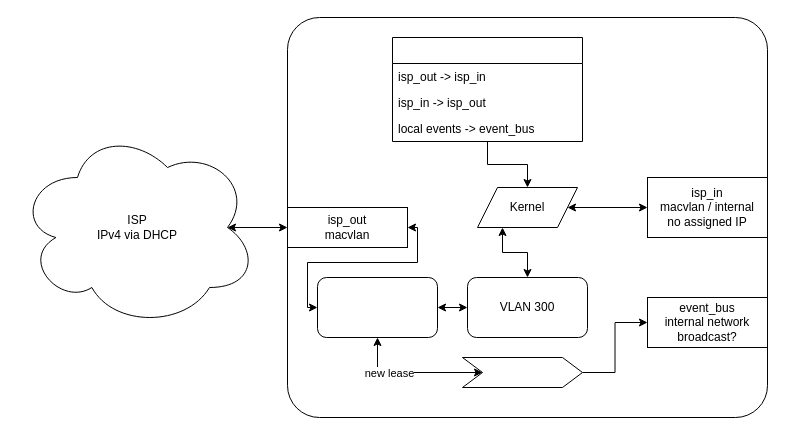
Image size: 785x443. Some labels were removed from this diagram. Here are the shapes that lost their labels. From the top down, the box of each, then its label:
(392, 36, 582, 142): Routing table
(316, 276, 438, 338): DHCP
(462, 356, 582, 388): - New lease
